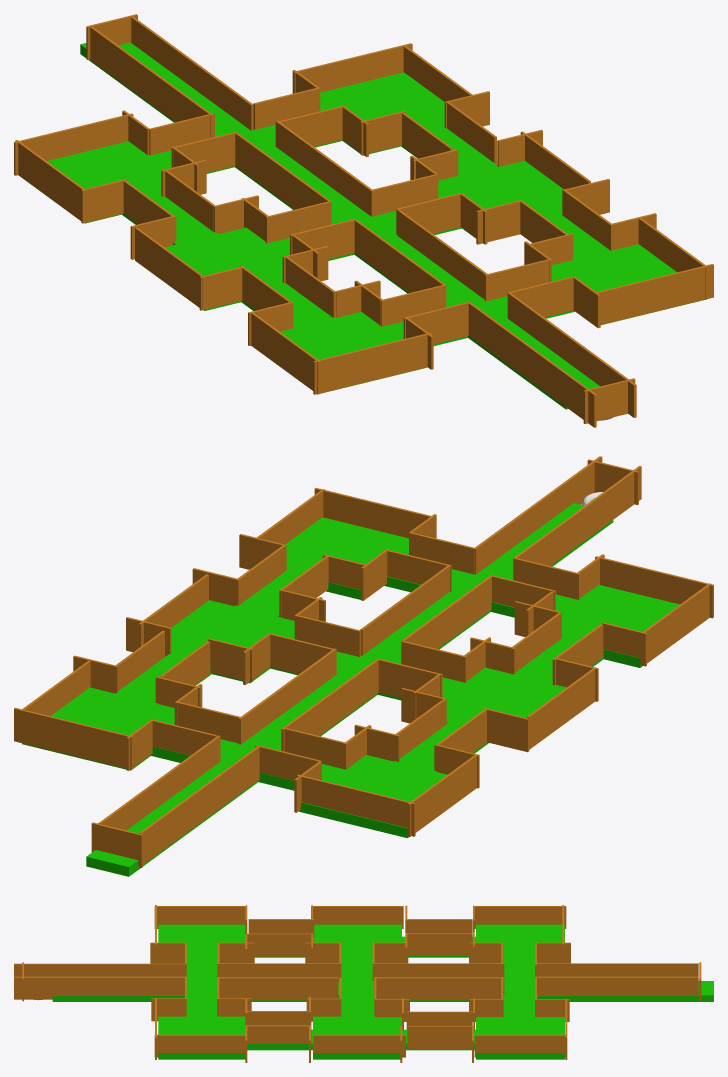
File: Level#1.fbx
3 views of the same model, one above another, from view 1: azimuth 30°, elevation 25°; view 2: azimuth 150°, elevation 25°; view 3: azimuth 270°, elevation 25° (orthographic). The views are drawn at different scales.
Visible parts, largest first — view 1: Cube, Cube.033, Cube.008, Cube.003, Cube.052, Cube.053, Cube.002, Cube.030, Cube.009, Cube.031, Cube.042, Cube.013 (+62 smaller); view 2: Cube, Cube.013, Cube.030, Cube.009, Cube.003, Cube.054, Cube.014, Cube.002, Cube.033, Cube.008, Cube.042, Cube.050 (+62 smaller); view 3: Cube, Cube.042, Cube.031, Cube.012, Cube.016, Cube.033, Cube.030, Cube.003, Cube.008, Cube.013, Cube.002, Cube.009 (+33 smaller).
Boxes of the visible parts, x1,y1,x2,y2 form: Cube: (80, 42, 599, 409); Cube.033: (468, 302, 596, 427); Cube.008: (320, 72, 444, 155); Cube.003: (438, 160, 563, 238); Cube.052: (313, 332, 432, 394); Cube.053: (596, 264, 713, 324); Cube.002: (165, 227, 282, 310); Cube.030: (90, 26, 212, 137); Cube.009: (47, 141, 161, 223); Cube.031: (131, 16, 253, 130); Cube.042: (507, 292, 636, 417); Cube.013: (552, 244, 704, 325); Cube: (86, 503, 613, 876); Cube.013: (254, 517, 408, 599); Cube.030: (139, 745, 260, 864); Cube.009: (299, 755, 447, 838); Cube.003: (171, 600, 294, 683); Cube.054: (14, 707, 132, 769); Cube.014: (562, 585, 679, 667); Cube.002: (442, 667, 566, 723); Cube.033: (513, 466, 641, 580); Cube.008: (22, 687, 174, 770); Cube.042: (474, 456, 602, 574); Cube.050: (296, 774, 415, 836); Cube: (52, 981, 713, 1001); Cube.042: (14, 976, 185, 999); Cube.031: (535, 976, 698, 994); Cube.012: (374, 977, 504, 1000); Cube.016: (218, 977, 338, 1000); Cube.033: (14, 963, 186, 976); Cube.030: (535, 963, 698, 976); Cube.003: (313, 1016, 401, 1059); Cube.008: (476, 1016, 564, 1059); Cube.013: (158, 1016, 245, 1059); Cube.002: (313, 924, 401, 960); Cube.009: (476, 924, 564, 958).
Size of the model in its own units: 1909 by 162 by 4164.
